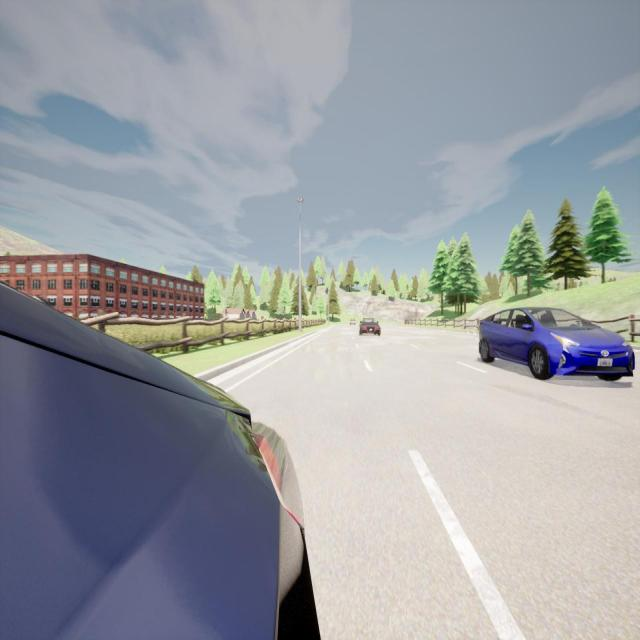Vehicle: (0, 286, 319, 640), (479, 307, 634, 380), (360, 316, 380, 336), (348, 316, 356, 326)
